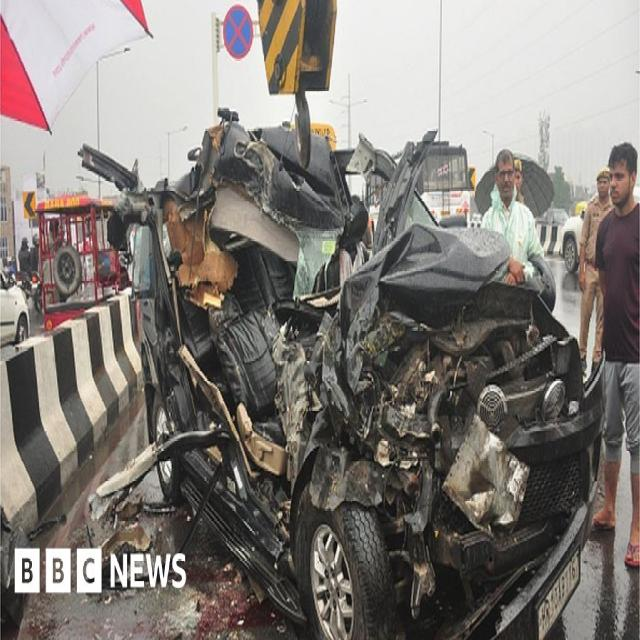accident: (82, 109, 604, 638)
